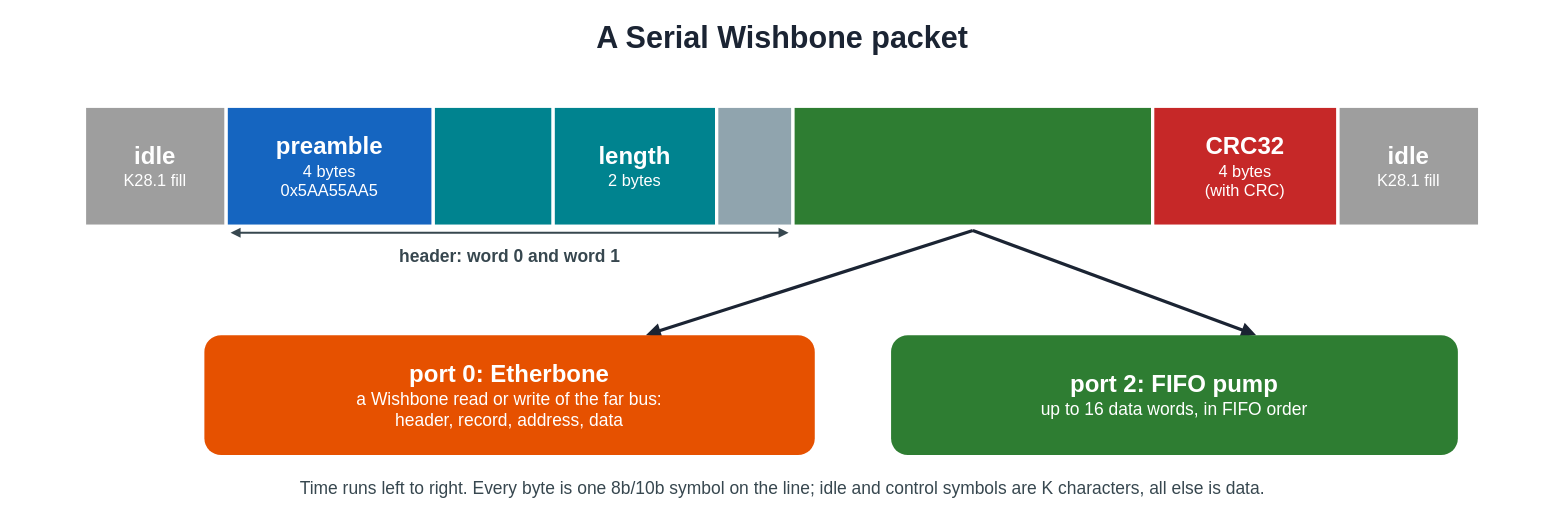
Some shapes in this 1563 by 522 pixel diagram are drawn without their labels. The centre of each missing label's shape, as x and y in pixels:
0 1 byte: the point at 754,165
payload length bytes (4 per word): the point at 972,165
port 1 byte: the point at 492,165
